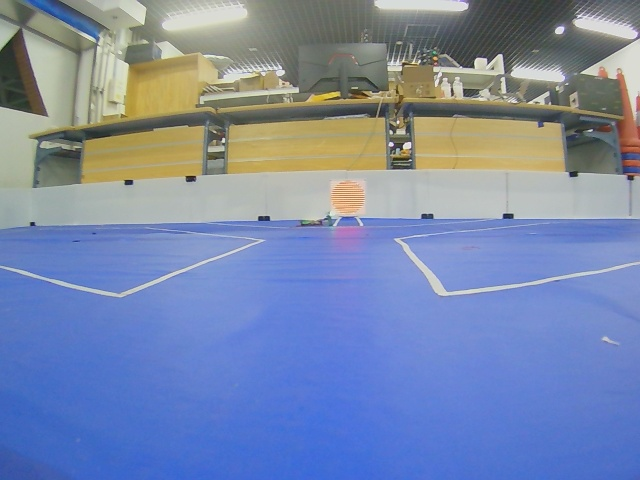red: (330, 180, 366, 216)
